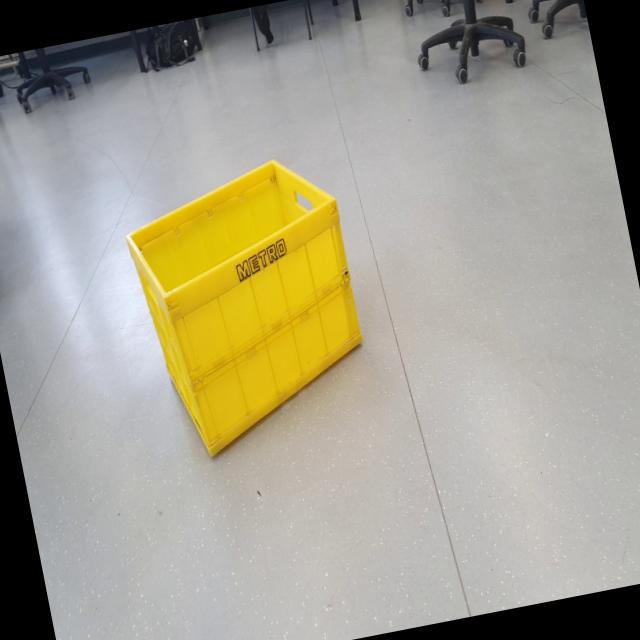box: (108, 147, 384, 476)
